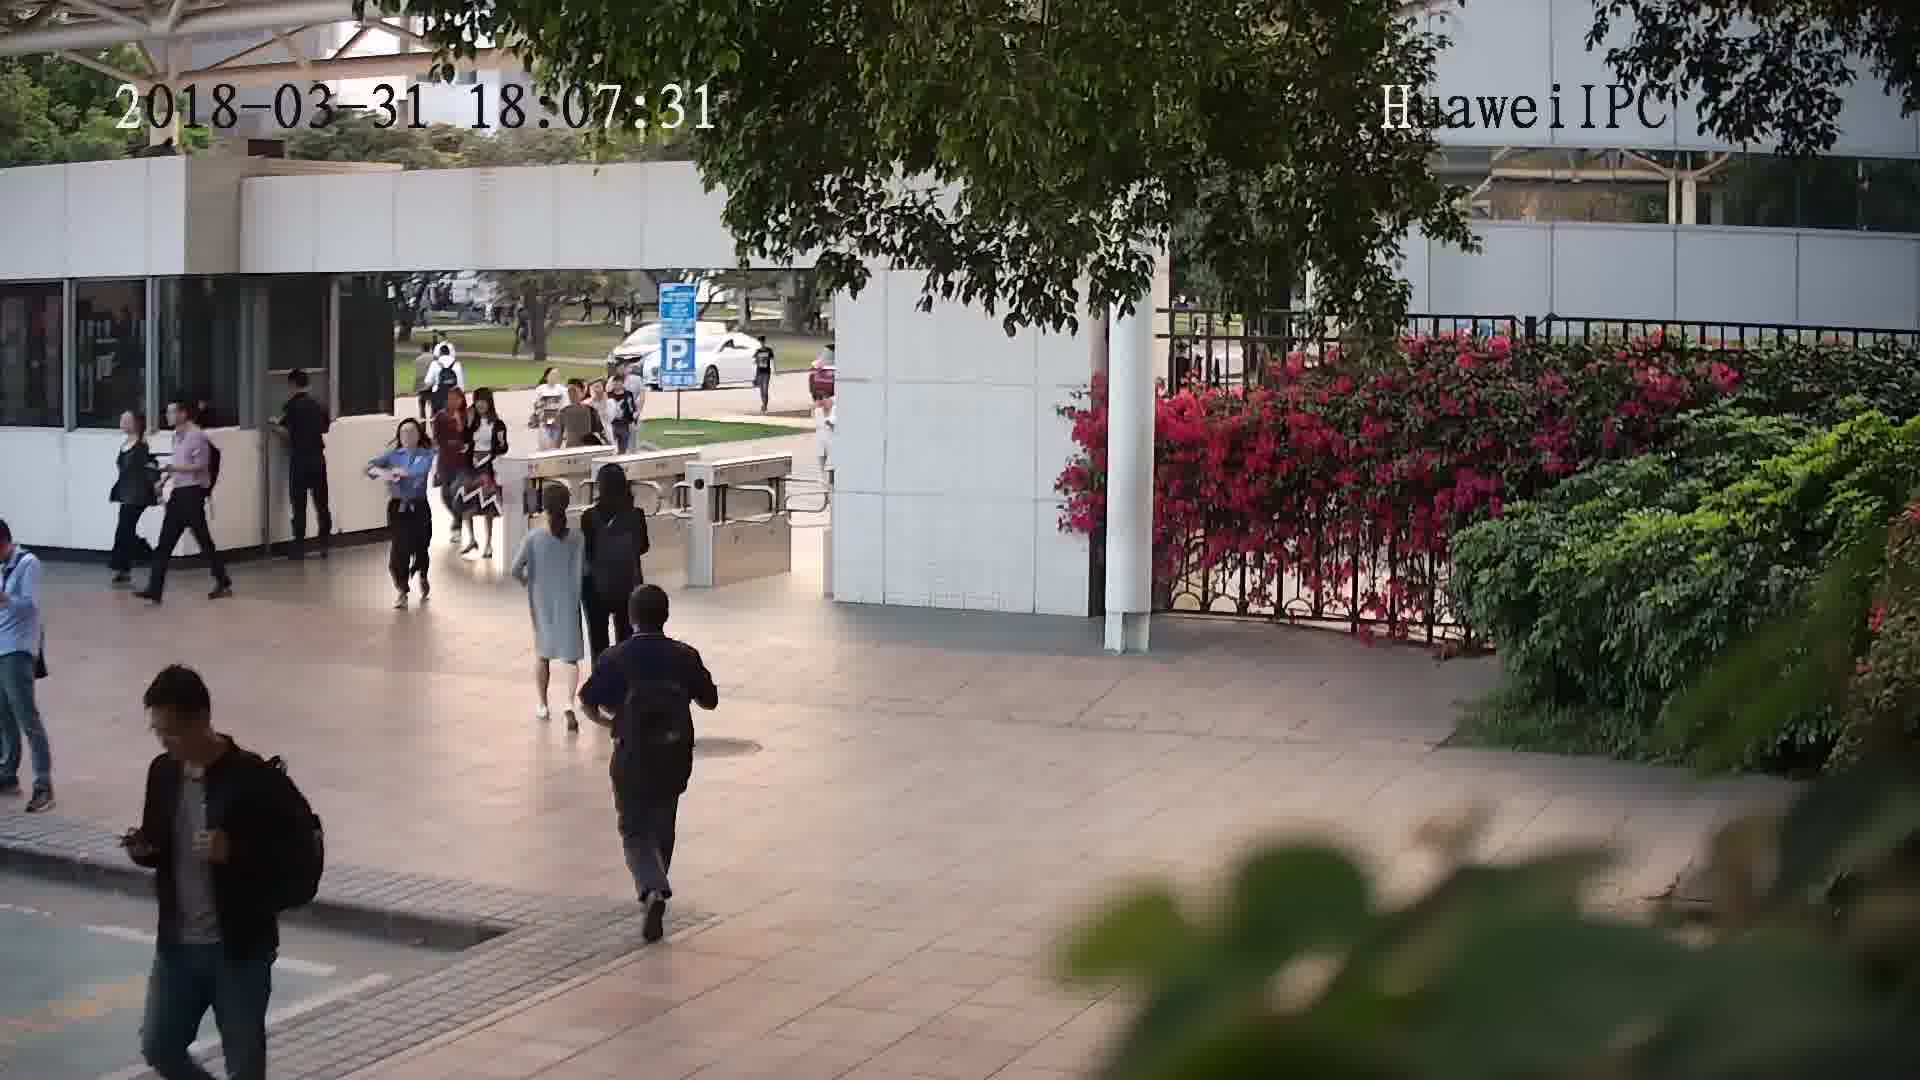face: (139, 694, 208, 762)
person: (140, 666, 269, 794), (601, 580, 701, 676), (526, 478, 582, 548), (585, 462, 645, 525), (1, 513, 46, 584), (167, 391, 214, 450), (383, 417, 436, 465), (281, 363, 327, 415), (115, 403, 157, 460), (466, 386, 507, 434), (559, 376, 601, 421), (432, 381, 472, 429), (534, 366, 574, 404), (587, 374, 619, 414), (428, 342, 463, 375), (607, 368, 635, 403), (750, 334, 775, 358)
